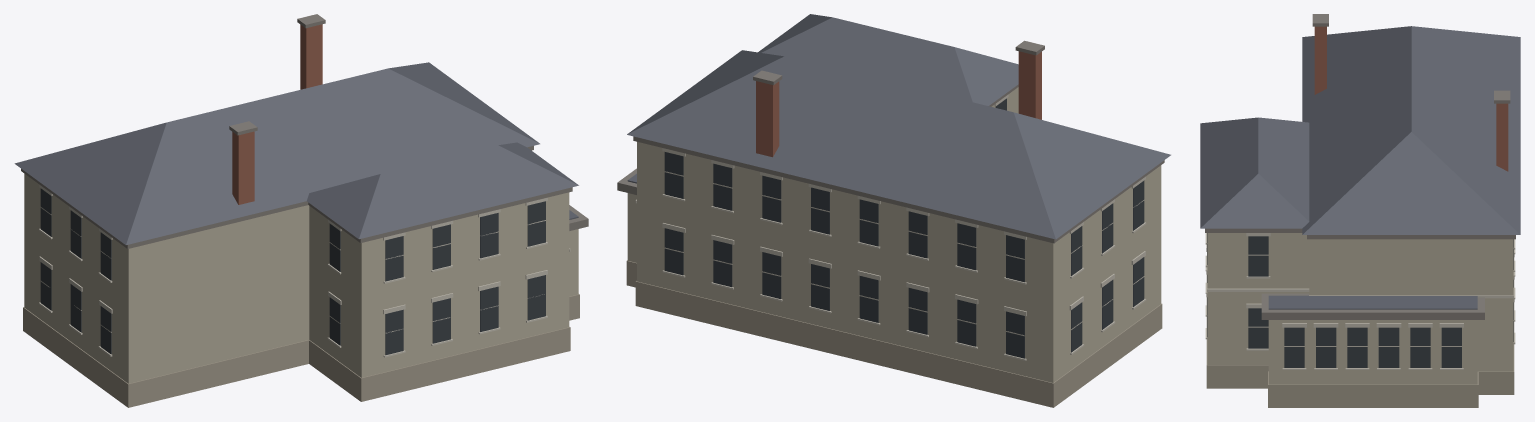
File: walker_house_1720_prairie__draft_1904.glb
3 renders of one model, left to right at view 1: azimuth 30°, elevation 25°; view 2: azimuth 150°, elevation 25°; view 3: azimuth 270°, elevation 25°, orthographic. The views are drawn at different scales.
Visible parts, largest first — view 1: walker_house_1720_prairie__draft_1904; view 2: walker_house_1720_prairie__draft_1904; view 3: walker_house_1720_prairie__draft_1904.
Boxes of the visible parts, x1,y1,x2,y2 form: walker_house_1720_prairie__draft_1904: (14, 14, 588, 407); walker_house_1720_prairie__draft_1904: (617, 14, 1170, 407); walker_house_1720_prairie__draft_1904: (1200, 14, 1520, 407).
Bounding box in the file's own units: 24.45 × 13.07 × 15.7.
